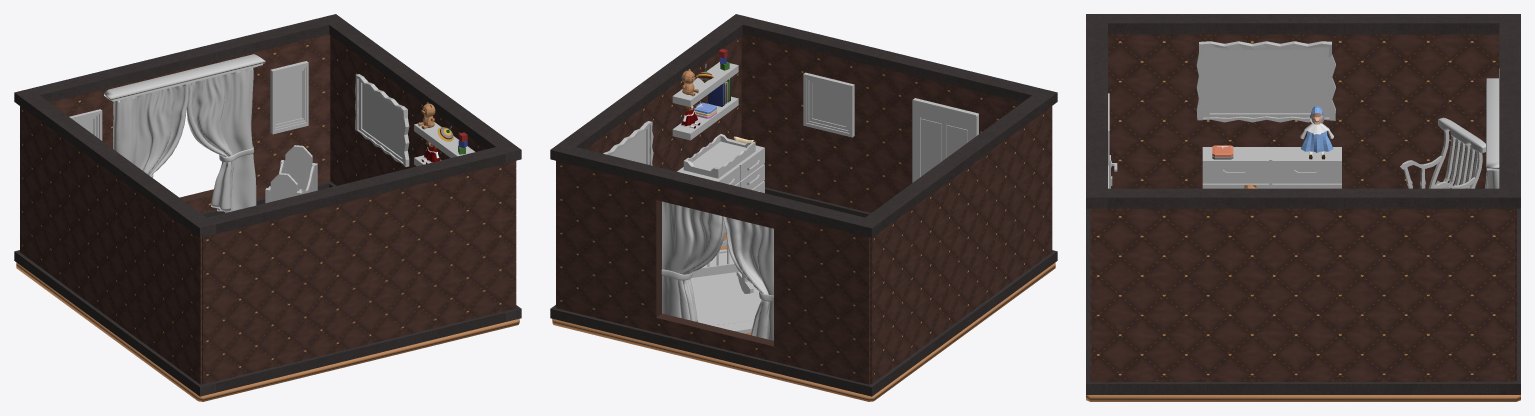
The model's file is 1st_RoomTEXTURES.fbx.
3 renders of one model, left to right at view 1: azimuth 30°, elevation 25°; view 2: azimuth 150°, elevation 25°; view 3: azimuth 270°, elevation 25°, orthographic. The views are drawn at different scales.
Parts seen in each view (by area): view 1: 1 Wall 1, 1 Wall 2, 1 Wall 4, 1 Curtains, 1 Wall 3, 1 Floor, 1 picFrame 2, 1 picFrame 3, 1 Bassinet, 1 Shelf 2, 1 picFrame 4; view 2: 1 Wall 4, 1 Wall 2, 1 Wall 1, 1 Wall 3, 1 Curtains, 1 Door, 1 Floor, 1 Changing Table, 1 Rug, 1 picFrame 5, 1 picFrame 2, 1 Shelf 2 (+2 smaller); view 3: 1 Wall 3, 1 Wall 2, 1 picFrame 1, 1 Wall 4, 1 Dresser, 1 Wall 1, 1 Floor, 1 Rocking Chair, 1 Curtains, 1 Baby Doll.
Part boxes in pixels (<box>): 1 Wall 1: <box>190,147,521,396</box>; 1 Wall 2: <box>14,93,215,396</box>; 1 Wall 4: <box>14,14,344,217</box>; 1 Curtains: <box>104,54,265,212</box>; 1 Wall 3: <box>329,21,521,321</box>; 1 Floor: <box>16,262,519,401</box>; 1 picFrame 2: <box>355,74,409,166</box>; 1 picFrame 3: <box>270,61,308,134</box>; 1 Bassinet: <box>265,145,317,203</box>; 1 Shelf 2: <box>414,122,474,157</box>; 1 picFrame 4: <box>69,109,102,140</box>; 1 Wall 4: <box>550,143,880,396</box>; 1 Wall 2: <box>856,89,1057,396</box>; 1 Wall 1: <box>741,18,1057,267</box>; 1 Wall 3: <box>550,14,751,321</box>; 1 Curtains: <box>661,201,773,340</box>; 1 Door: <box>912,98,978,182</box>; 1 Floor: <box>552,232,1055,401</box>; 1 Changing Table: <box>677,134,764,232</box>; 1 Rug: <box>690,272,761,333</box>; 1 picFrame 5: <box>803,72,854,137</box>; 1 picFrame 2: <box>603,121,653,165</box>; 1 Shelf 2: <box>672,62,738,107</box>; 1 Wall 3: <box>1086,188,1520,394</box>; 1 Wall 2: <box>1086,14,1520,209</box>; 1 picFrame 1: <box>1196,41,1335,122</box>; 1 Wall 4: <box>1499,14,1520,394</box>; 1 Dresser: <box>1202,147,1341,188</box>; 1 Wall 1: <box>1086,14,1107,394</box>; 1 Floor: <box>1086,395,1520,401</box>; 1 Rocking Chair: <box>1400,117,1485,188</box>; 1 Curtains: <box>1485,78,1499,188</box>; 1 Baby Doll: <box>1300,106,1333,159</box>.
Size of the model in its own units: 1000 by 521 by 1000.
